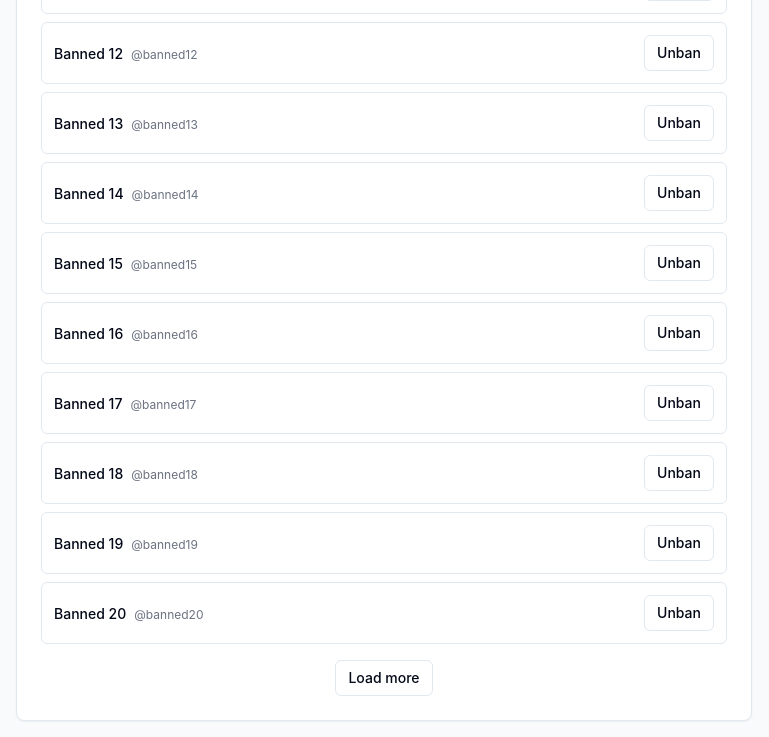
Test case: banned members section — pagination › a failed next page is an alert (never a success), and Retry — the same control — loads it
(page scrolled)
Click the button "Load more" at (384, 678), box [335,660,432,696]
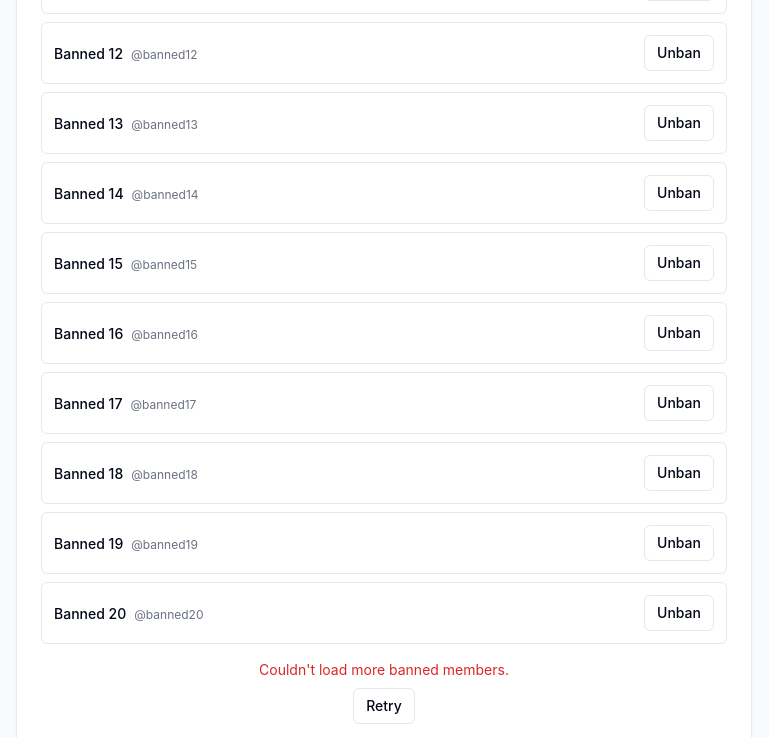
expect the message reads "Couldn't load more banned members.": met, box [259,661,509,678]
Click the button with aria-label "Retry loading more banned members" at (384, 706), box [353,688,415,724]
(page scrolled)
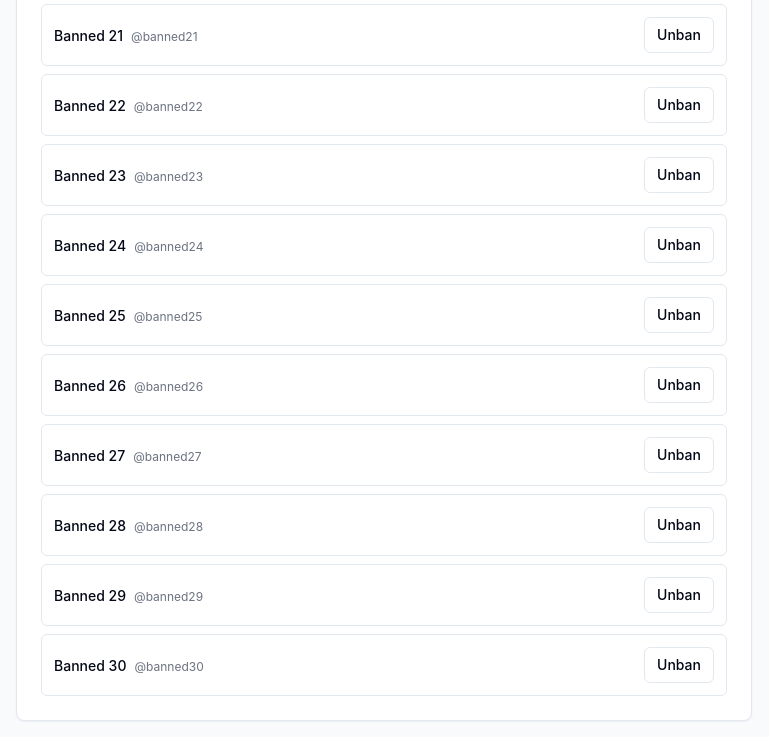
expect the text "Banned 30" is shown: met, box [54,657,126,674]
expect the message "Couldn't load more banned members." is gone: met
